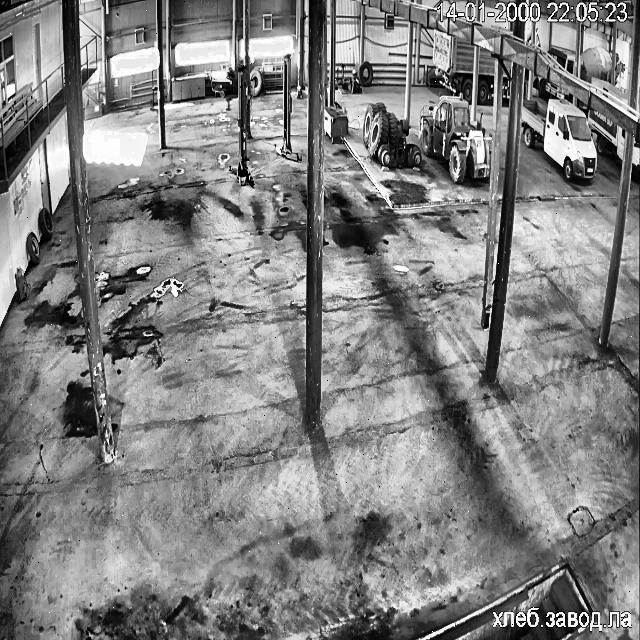car lift: (230, 66, 253, 186), (275, 54, 298, 161)
fire extinguisher: (16, 268, 27, 300)
tractor: (420, 96, 489, 182), (362, 102, 420, 166)
truck: (521, 99, 596, 180), (432, 28, 473, 100), (588, 108, 625, 158), (580, 46, 624, 83), (477, 46, 494, 101), (592, 78, 628, 102), (536, 77, 570, 99), (549, 45, 574, 73), (498, 60, 511, 99), (632, 139, 640, 179)
